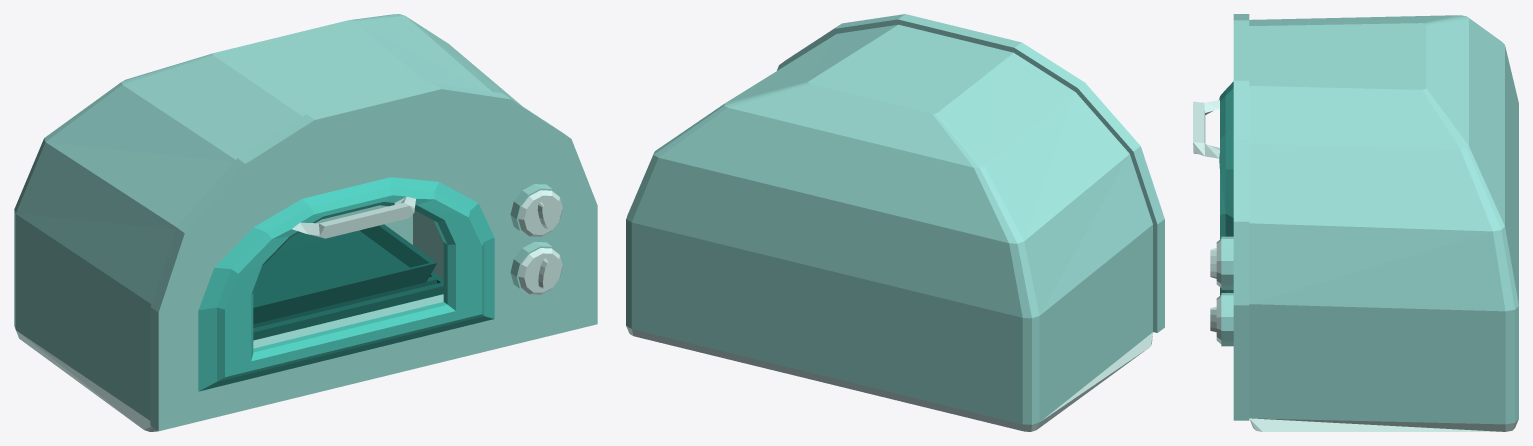
The model's file is Oven.FBX.
The picture shows the model from 3 angles, left to right: view 1: azimuth 30°, elevation 25°; view 2: azimuth 150°, elevation 25°; view 3: azimuth 270°, elevation 25°; orthographic projection. The views are drawn at different scales.
Parts seen in each view (by area): view 1: Oven; view 2: Oven; view 3: Oven.
Boxes of the visible parts, box(x1,y1,x2,y2) form: Oven: box(14, 14, 597, 431); Oven: box(626, 14, 1164, 431); Oven: box(1193, 14, 1518, 431).
Bounding box in the file's own units: 569 × 346 × 367.
Materials: 1 (1 with a texture image).
